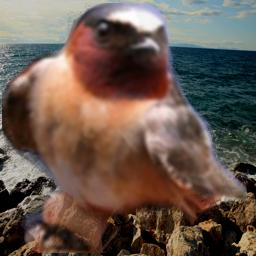Swallow: (2, 3, 247, 253)
